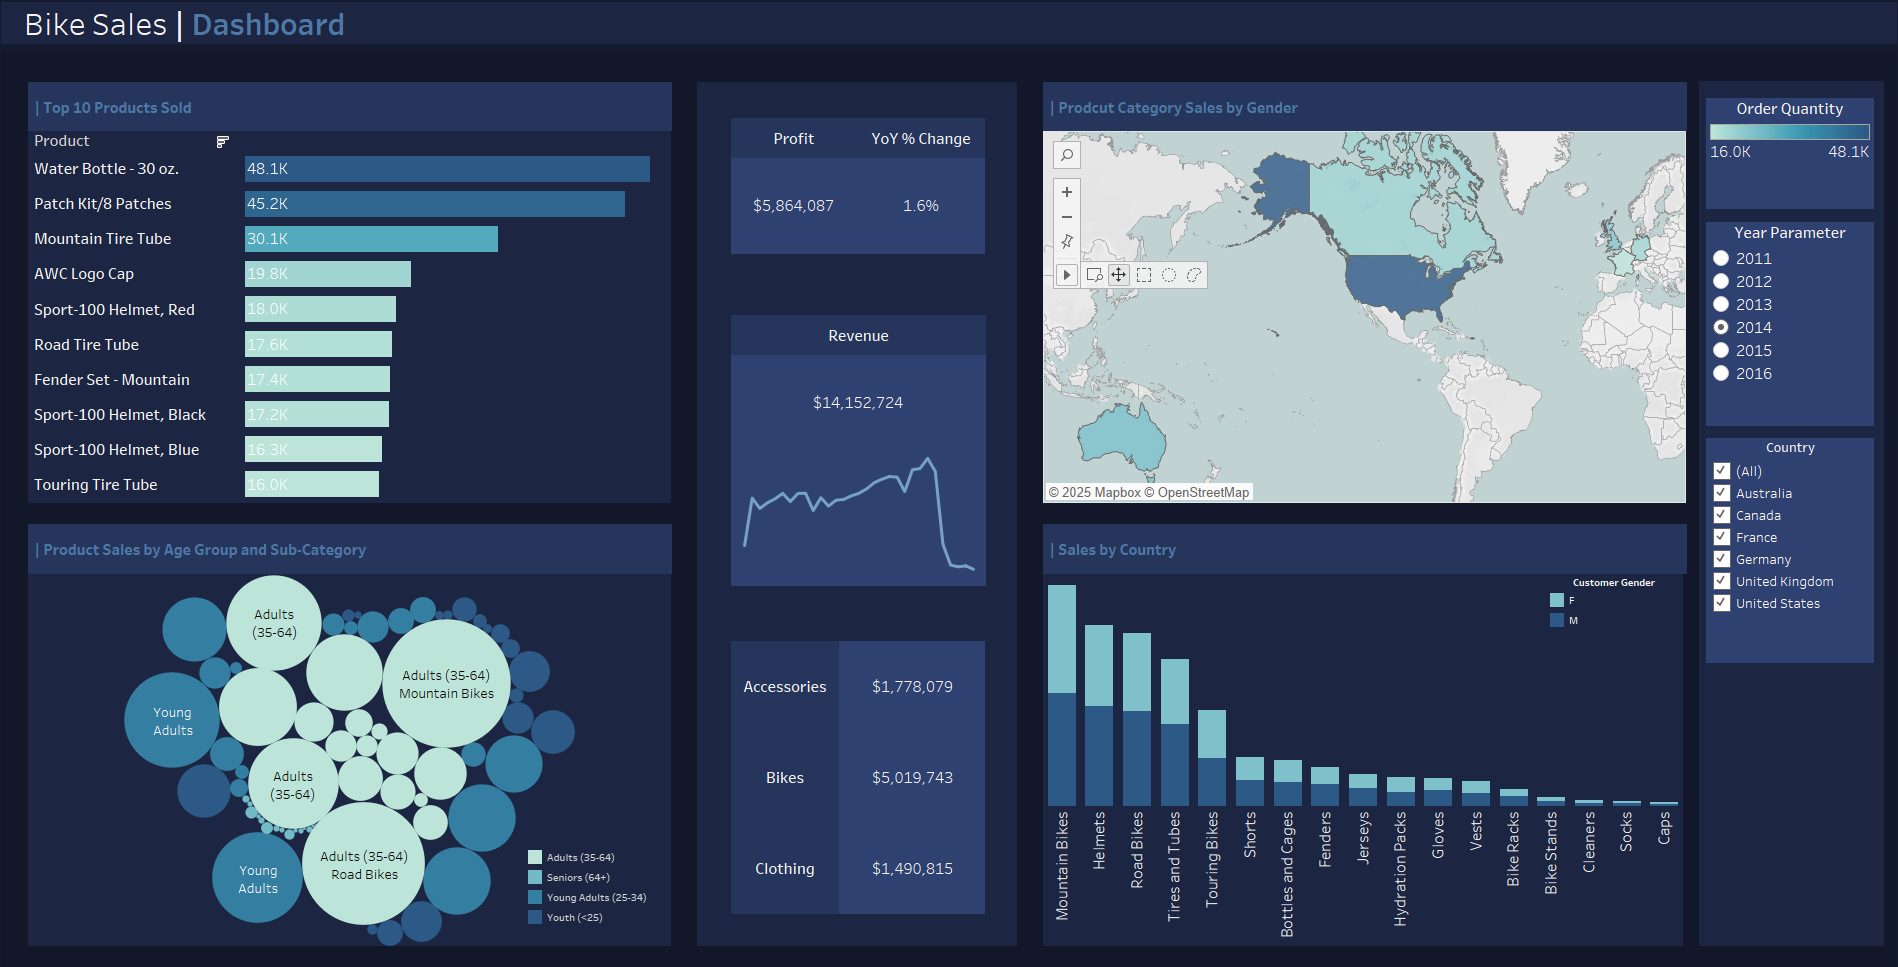

Layout of this report page (visuals, bound fields, positions):
{"tool":"tableau","page":{"name":"Bike Sales Dashboard","canvas":[1000,1000],"units":"permille","ordinal":0},"visuals":[{"type":"title","box":[4.8,10,990.4,62.4]},{"type":"blank","box":[4.8,72.4,990.4,917.6]},{"type":"text","box":[20.5,92.4,335.6,49.9]},{"type":"text","box":[549.2,92.4,335.6,49.9]},{"type":"legend","title":"Top 10 Products","param":"[federated.0n5mzf01jk7oqp1asquux06jf6w1].[sum:Order_Quantity:qk]","box":[894.4,108.6,87.5,112.4]},{"type":"worksheet","title":"Profit Card","mark":"Automatic","cols":["Calculation_1692227595457699841"],"box":[386.2,128.6,66.4,137.3]},{"type":"worksheet","title":"YoY % Change","mark":"Automatic","cols":["Calculation_1692227595461214216"],"box":[452.6,128.6,66.4,137.3]},{"type":"worksheet","title":"Top 10 Products","mark":"Bar","rows":["Product"],"box":[20.5,142.3,334.9,374.5]},{"type":"worksheet","title":"Profit by Country","mark":"Automatic","box":[549.2,142.3,334.9,374.5]},{"type":"parameter","param":"[Parameters].[Parameter 1]","box":[894.4,233.5,87.5,206]},{"type":"worksheet","title":"Revenue Card","mark":"Automatic","cols":["Calculation_1692227595463397385"],"box":[386.3,327.1,133,137.3]},{"type":"filter","title":"Age Group Bubble Chart","param":"[federated.0n5mzf01jk7oqp1asquux06jf6w1].[none:Country:nk]","box":[894.1,450.7,87.9,227.2]},{"type":"worksheet","title":"Revenue Line Chart","mark":"Automatic","rows":["Revenue"],"cols":["Date"],"box":[386.3,463.2,133,137.3]},{"type":"text","box":[20.5,538.1,335.6,49.9]},{"type":"text","box":[549.2,538.1,335.6,49.9]},{"type":"worksheet","title":"Age Group Bubble Chart","mark":"Circle","box":[20.5,588,334.9,374.5]},{"type":"worksheet","title":"Profit  by Sub-Category","mark":"Automatic","rows":["Profit"],"cols":["Sub_Category"],"box":[549.2,588,333.1,374.5]},{"type":"legend","title":"Profit  by Sub-Category","param":"[federated.0n5mzf01jk7oqp1asquux06jf6w1].[none:Customer_Gender:nk]","box":[811.7,589.3,70,72.4]},{"type":"worksheet","title":"Cost Card","mark":"Automatic","rows":["Product_Category"],"box":[386.2,655.4,132.8,274.7]},{"type":"legend","title":"Age Group Bubble Chart","param":"[federated.0n5mzf01jk7oqp1asquux06jf6w1].[none:Age_Group:nk]","box":[279.4,862.7,88.7,119.9]}]}

Visuals, with their boxes on the dashboard's canvas, which has no fixed pixel size, in thousandths of its width and height (x1, y1, x2, y2). These are canvas units, not pixel positions in the 1898x967 screenshot, which may show the page scaled, cropped or inside an application window:
title: select_region(5, 10, 995, 72)
blank: select_region(5, 72, 995, 990)
text: select_region(20, 92, 356, 142)
text: select_region(549, 92, 885, 142)
"Top 10 Products" legend: select_region(894, 109, 982, 221)
"Profit Card" worksheet: select_region(386, 129, 453, 266)
"YoY % Change" worksheet: select_region(453, 129, 519, 266)
"Top 10 Products" worksheet (Bar marks): select_region(20, 142, 355, 517)
"Profit by Country" worksheet: select_region(549, 142, 884, 517)
parameter: select_region(894, 234, 982, 440)
"Revenue Card" worksheet: select_region(386, 327, 519, 464)
"Age Group Bubble Chart" filter: select_region(894, 451, 982, 678)
"Revenue Line Chart" worksheet: select_region(386, 463, 519, 600)
text: select_region(20, 538, 356, 588)
text: select_region(549, 538, 885, 588)
"Age Group Bubble Chart" worksheet (Circle marks): select_region(20, 588, 355, 962)
"Profit  by Sub-Category" worksheet: select_region(549, 588, 882, 962)
"Profit  by Sub-Category" legend: select_region(812, 589, 882, 662)
"Cost Card" worksheet: select_region(386, 655, 519, 930)
"Age Group Bubble Chart" legend: select_region(279, 863, 368, 983)
